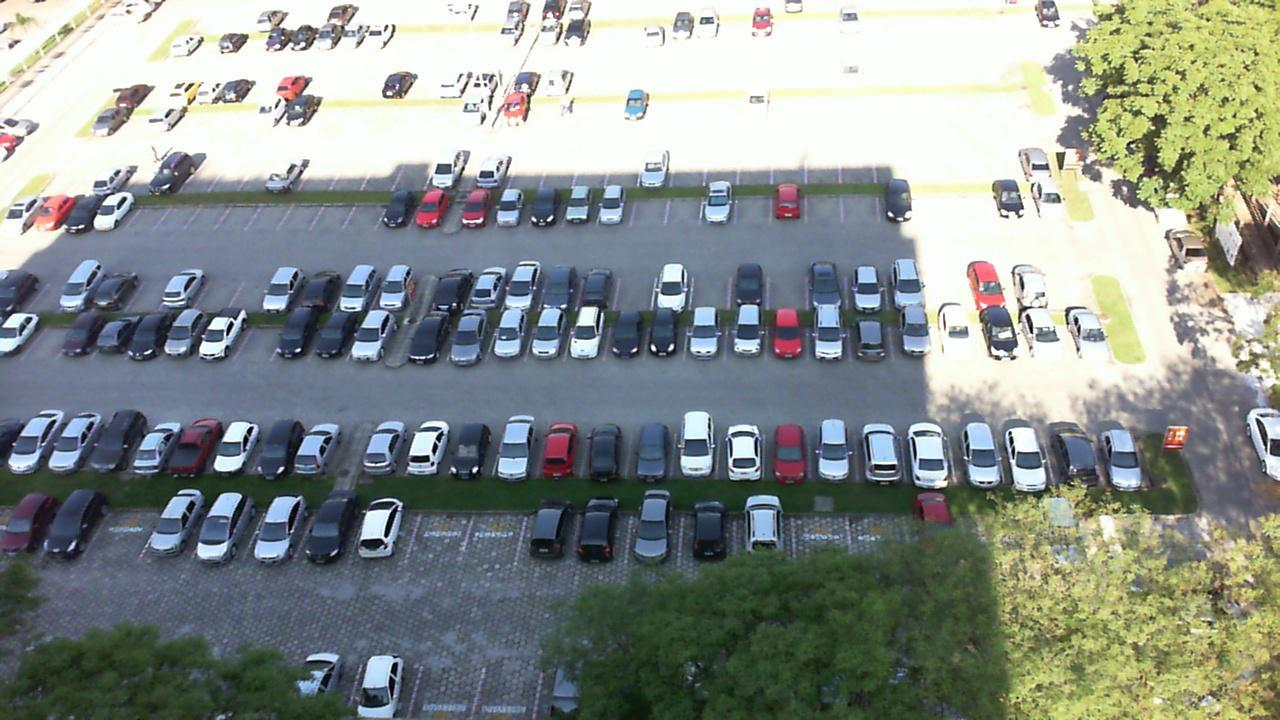empty: (87, 500, 158, 561), (461, 507, 527, 567), (408, 504, 475, 561), (234, 305, 291, 363), (226, 267, 280, 310), (1051, 258, 1098, 306), (310, 185, 355, 233), (278, 185, 324, 230), (345, 185, 388, 233), (928, 257, 969, 307), (763, 260, 807, 306), (689, 260, 727, 309), (614, 263, 655, 307), (956, 177, 992, 222), (735, 182, 772, 225), (917, 182, 956, 222), (665, 186, 699, 227), (807, 183, 842, 222), (844, 183, 879, 222), (632, 187, 664, 226)
occupied: (188, 500, 264, 564), (246, 497, 315, 564), (141, 501, 211, 563), (295, 499, 363, 562), (1089, 416, 1151, 479), (351, 501, 418, 558), (446, 416, 508, 477), (997, 419, 1054, 485), (518, 504, 581, 563), (624, 507, 683, 570), (42, 501, 110, 555), (127, 413, 185, 473), (1045, 417, 1098, 481), (952, 418, 1004, 482), (576, 505, 629, 567), (211, 417, 268, 474), (165, 417, 223, 473), (443, 306, 497, 366), (903, 421, 957, 480), (856, 422, 909, 482), (535, 420, 588, 478), (272, 301, 323, 361), (492, 418, 545, 475), (254, 416, 307, 472), (307, 308, 359, 365), (625, 418, 672, 481), (1059, 304, 1113, 358), (295, 421, 349, 475), (405, 416, 457, 472), (523, 304, 571, 364), (718, 417, 764, 479), (811, 421, 858, 480), (349, 306, 396, 364), (763, 417, 809, 476), (481, 309, 529, 365), (669, 419, 717, 475), (202, 304, 249, 361), (580, 419, 626, 477), (972, 307, 1022, 360), (966, 255, 1014, 309), (362, 420, 412, 471), (885, 254, 931, 307), (259, 265, 312, 310), (410, 307, 449, 368), (606, 310, 648, 364), (295, 266, 344, 312), (934, 309, 976, 362), (375, 184, 421, 232), (888, 311, 934, 359), (1017, 311, 1062, 360), (1011, 256, 1054, 307), (335, 268, 386, 310), (643, 312, 685, 363), (849, 257, 889, 310), (565, 310, 604, 364), (725, 311, 766, 362), (808, 308, 848, 360), (1022, 175, 1068, 220), (377, 268, 424, 312), (851, 311, 891, 362), (809, 254, 848, 306), (573, 263, 618, 308), (458, 267, 503, 311), (409, 187, 452, 232), (461, 184, 503, 230), (767, 310, 804, 362), (426, 269, 471, 310), (503, 264, 546, 306), (537, 266, 580, 307), (690, 310, 724, 361), (648, 264, 688, 307), (728, 264, 766, 307), (598, 186, 634, 230), (565, 184, 599, 230), (987, 180, 1027, 219), (534, 186, 567, 232), (500, 186, 535, 229), (775, 182, 807, 225), (880, 182, 915, 219), (702, 184, 734, 222)
